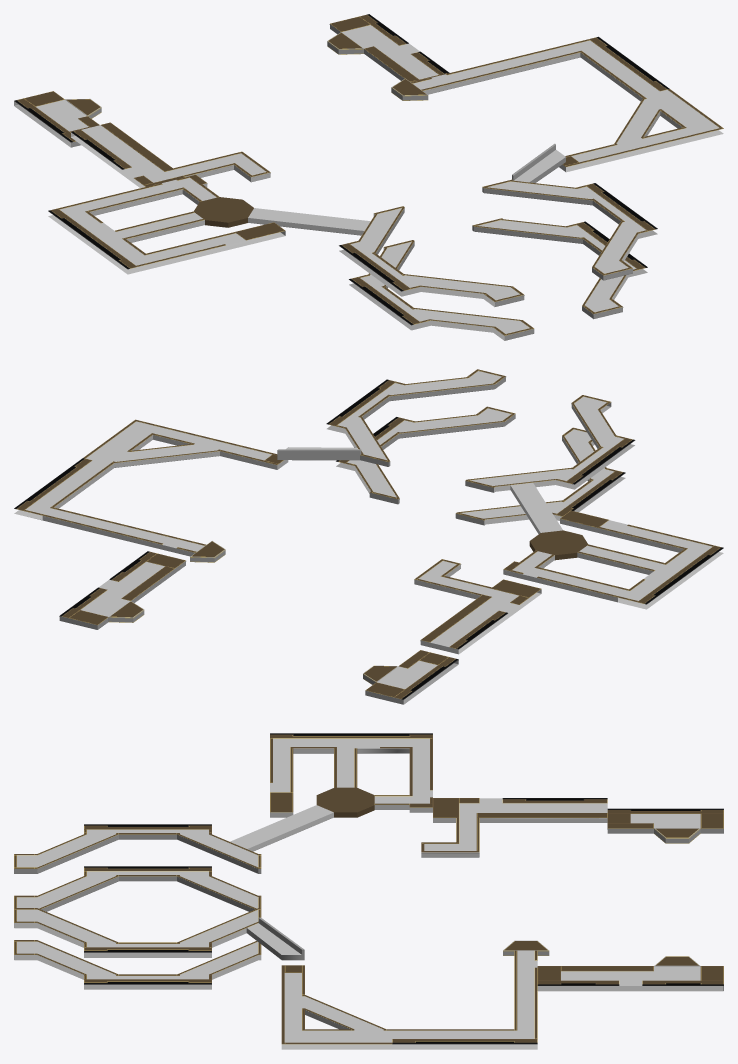
The model's file is LESBONNESPASSERELLES.fbx.
The picture shows the model from 3 angles, top to bottom: view 1: azimuth 30°, elevation 25°; view 2: azimuth 150°, elevation 25°; view 3: azimuth 270°, elevation 25°; orthographic projection. The views are drawn at different scales.
Parts seen in each view (by area): view 1: A_zone_3_arena_bridge_white_marble_, A_zone_02_far_left_zone_bridge_white_marble_, A_zone_02_far_right_zone_bridge_white_marble_, A_zone_3_arena_bridge_concrete_, A_zone_3_arena_bridge_wood_01_, A_zone_02_far_right_zone_bridge_wood_01_, A_zone_02_far_left_zone_bridge_concrete_, A_zone_02_far_right_zone_bridge_concrete_, A_zone_02_right_zone_bridge_white_marble_, A_zone_3_arena_bridge_wood_02_, A_zone_02_far_left_zone_bridge_wood_01_, A_zone_02_left_zone_bridge_white_marble_ (+14 smaller); view 2: A_zone_3_arena_bridge_white_marble_, A_zone_02_far_left_zone_bridge_white_marble_, A_zone_02_far_right_zone_bridge_white_marble_, A_zone_3_arena_bridge_concrete_, A_zone_02_far_left_zone_bridge_concrete_, A_zone_3_arena_bridge_wood_01_, A_zone_02_far_right_zone_bridge_wood_01_, A_zone_02_far_right_zone_bridge_concrete_, A_zone_02_right_zone_bridge_white_marble_, A_zone_3_arena_bridge_wood_02_, A_zone_02_far_left_zone_bridge_wood_01_, A_zone_02_left_zone_bridge_wood_01_ (+14 smaller); view 3: A_zone_3_arena_bridge_white_marble_, A_zone_02_far_left_zone_bridge_white_marble_, A_zone_02_far_right_zone_bridge_white_marble_, A_zone_3_arena_bridge_concrete_, A_zone_3_arena_bridge_wood_01_, A_zone_02_far_right_zone_bridge_wood_01_, A_zone_02_far_left_zone_bridge_concrete_, A_zone_3_arena_bridge_wood_02_, A_zone_02_right_zone_bridge_white_marble_, A_zone_3_arena_bridge_laiton_, A_zone_02_far_left_zone_bridge_wood_01_, A_zone_02_left_zone_bridge_wood_01_ (+16 smaller).
Part boxes in pixels (x1,y1,x2,y2): A_zone_3_arena_bridge_white_marble_: (351, 181, 645, 333); A_zone_02_far_left_zone_bridge_white_marble_: (413, 40, 719, 182); A_zone_02_far_right_zone_bridge_white_marble_: (60, 178, 370, 265); A_zone_3_arena_bridge_concrete_: (339, 187, 657, 340); A_zone_3_arena_bridge_wood_01_: (342, 180, 654, 335); A_zone_02_far_right_zone_bridge_wood_01_: (51, 175, 284, 267); A_zone_02_far_left_zone_bridge_concrete_: (391, 52, 723, 182); A_zone_02_far_right_zone_bridge_concrete_: (48, 183, 364, 274); A_zone_02_right_zone_bridge_white_marble_: (81, 125, 265, 182); A_zone_3_arena_bridge_wood_02_: (342, 179, 654, 335); A_zone_02_far_left_zone_bridge_wood_01_: (392, 37, 722, 166); A_zone_02_left_zone_bridge_white_marble_: (341, 25, 438, 79); A_zone_3_arena_bridge_white_marble_: (338, 371, 623, 518); A_zone_02_far_left_zone_bridge_white_marble_: (25, 421, 357, 551); A_zone_02_far_right_zone_bridge_white_marble_: (510, 482, 712, 600); A_zone_3_arena_bridge_concrete_: (327, 376, 634, 525); A_zone_02_far_left_zone_bridge_concrete_: (14, 435, 361, 562); A_zone_3_arena_bridge_wood_01_: (330, 369, 631, 519); A_zone_02_far_right_zone_bridge_wood_01_: (504, 511, 720, 603); A_zone_02_far_right_zone_bridge_concrete_: (503, 485, 723, 609); A_zone_02_right_zone_bridge_white_marble_: (418, 561, 518, 646); A_zone_3_arena_bridge_wood_02_: (329, 369, 632, 520); A_zone_02_far_left_zone_bridge_wood_01_: (17, 420, 282, 556); A_zone_02_left_zone_bridge_wood_01_: (63, 552, 184, 624); A_zone_3_arena_bridge_white_marble_: (17, 829, 258, 979); A_zone_02_far_left_zone_bridge_white_marble_: (247, 923, 537, 1042); A_zone_02_far_right_zone_bridge_white_marble_: (230, 738, 432, 848); A_zone_3_arena_bridge_concrete_: (14, 834, 261, 989); A_zone_3_arena_bridge_wood_01_: (14, 826, 260, 982); A_zone_02_far_right_zone_bridge_wood_01_: (270, 735, 432, 817); A_zone_02_far_left_zone_bridge_concrete_: (246, 917, 549, 1049); A_zone_3_arena_bridge_wood_02_: (14, 825, 261, 982); A_zone_02_right_zone_bridge_white_marble_: (424, 798, 607, 850); A_zone_3_arena_bridge_laiton_: (14, 826, 260, 982); A_zone_02_far_left_zone_bridge_wood_01_: (282, 941, 547, 1043); A_zone_02_left_zone_bridge_wood_01_: (538, 956, 723, 984).
Size of the model in its own units: 12200 by 900 by 12204.
